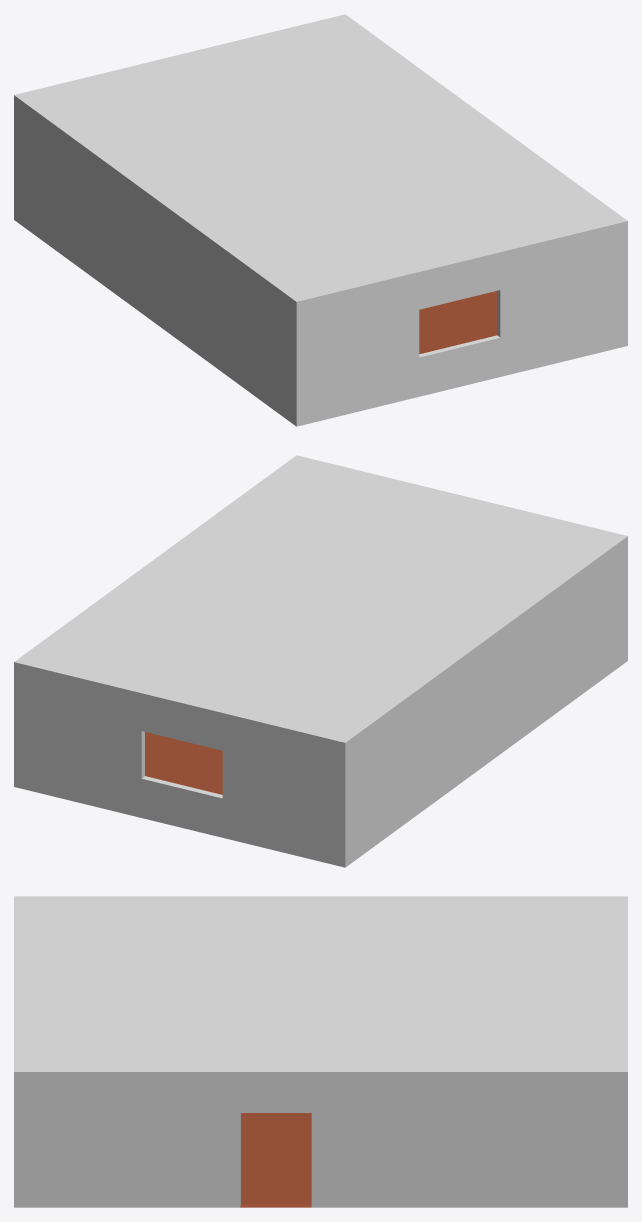
Rendered from equipment-house.glb.
3 views of the same model, one above another, from view 1: azimuth 30°, elevation 25°; view 2: azimuth 150°, elevation 25°; view 3: azimuth 270°, elevation 25° (orthographic). The views are drawn at different scales.
Parts seen in each view (by area): view 1: Cube; view 2: Cube; view 3: Cube.
Part boxes in pixels (x1,y1,x2,y2): Cube: (14,14,627,426); Cube: (14,455,627,867); Cube: (14,896,627,1207).
Size of the model in its own units: 2.55 by 0.9177 by 3.77.
